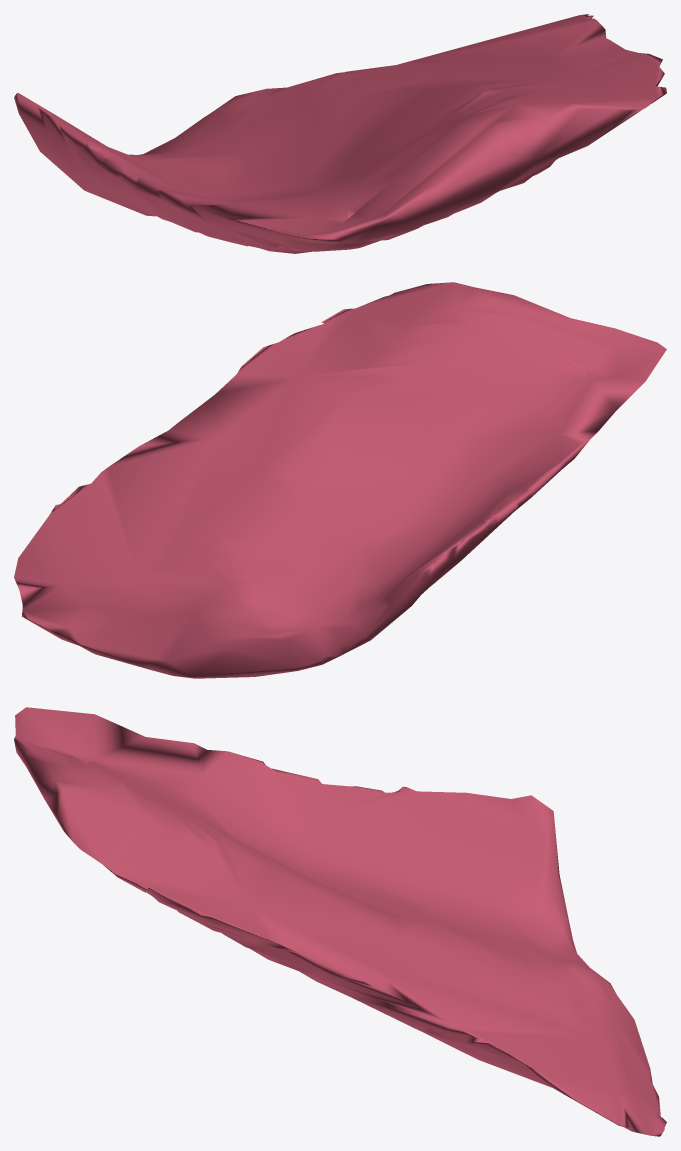
3 views of the same model, one above another, from view 1: azimuth 30°, elevation 25°; view 2: azimuth 150°, elevation 25°; view 3: azimuth 270°, elevation 25° (orthographic). The views are drawn at different scales.
Parts seen in each view (by area): view 1: 左侧旋前方肌; view 2: 左侧旋前方肌; view 3: 左侧旋前方肌.
Part boxes in pixels (box(x1,y1,x2,y2)): 左侧旋前方肌: box(14, 14, 666, 253); 左侧旋前方肌: box(14, 282, 666, 678); 左侧旋前方肌: box(14, 707, 666, 1136).
Size of the model in its own units: 0.0687 by 0.0364 by 0.0768.
